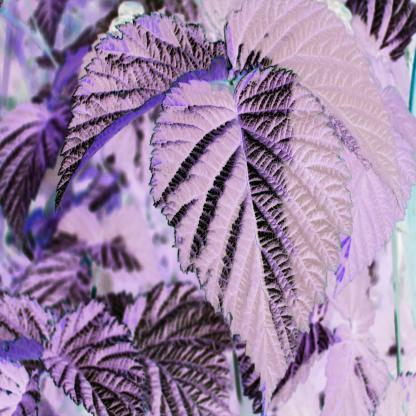Raspberry leaf: (137, 61, 354, 414), (51, 9, 218, 215)
